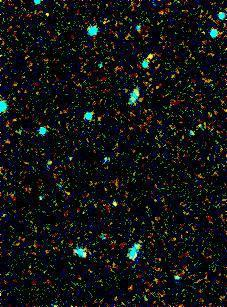star: (136, 43, 166, 73)
